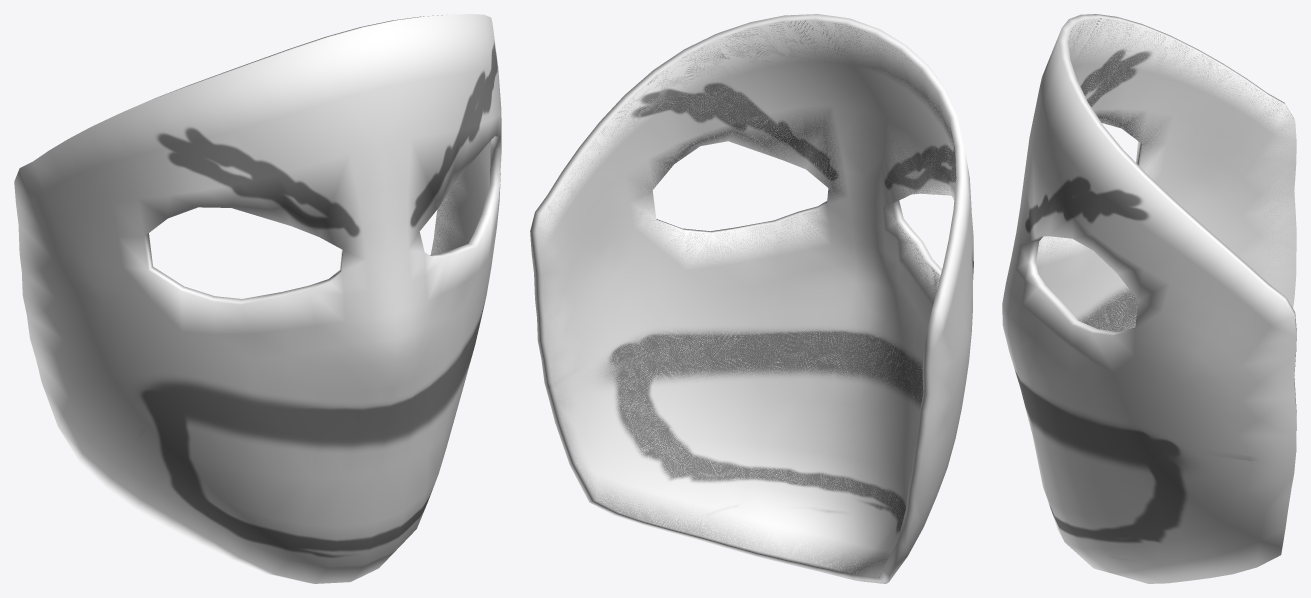
File: s_mask.glb
3 renders of one model, left to right at view 1: azimuth 30°, elevation 25°; view 2: azimuth 150°, elevation 25°; view 3: azimuth 270°, elevation 25°, orthographic. The views are drawn at different scales.
Parts seen in each view (by area): view 1: male-adult-meso.001, male-adult-meso.000; view 2: male-adult-meso.001, male-adult-meso.000; view 3: male-adult-meso.001, male-adult-meso.000.
Part boxes in pixels (x1=…): male-adult-meso.001: x1=14, y1=14, x2=501, y2=583; male-adult-meso.000: x1=431, y1=144, x2=490, y2=253; male-adult-meso.001: x1=530, y1=14, x2=973, y2=583; male-adult-meso.000: x1=538, y1=20, x2=955, y2=578; male-adult-meso.001: x1=1002, y1=14, x2=1296, y2=583; male-adult-meso.000: x1=1036, y1=18, x2=1296, y2=331.
Bounding box in the file's own units: 0.152 × 0.1887 × 0.0952.
2 materials, 1 textured.
